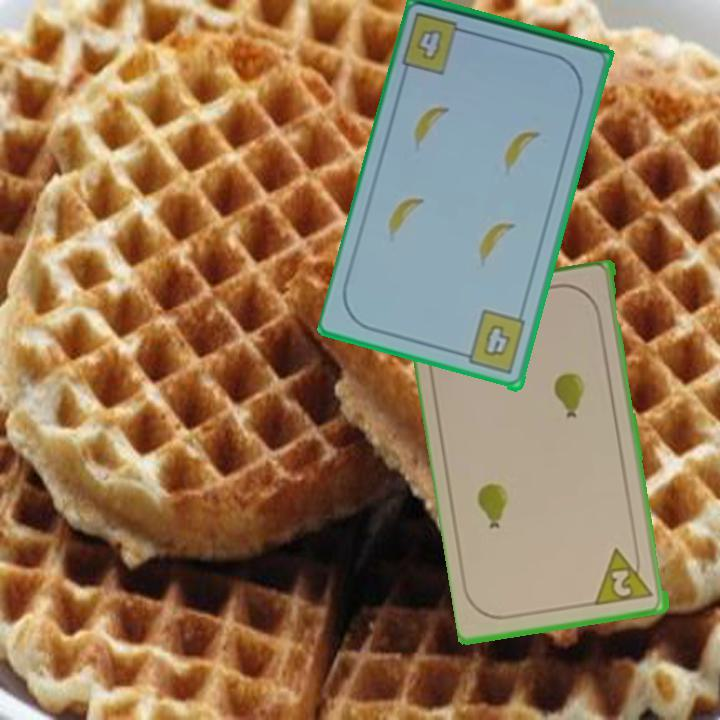2p: (609, 567, 635, 600)
4b: (399, 9, 475, 78), (456, 307, 529, 378)
